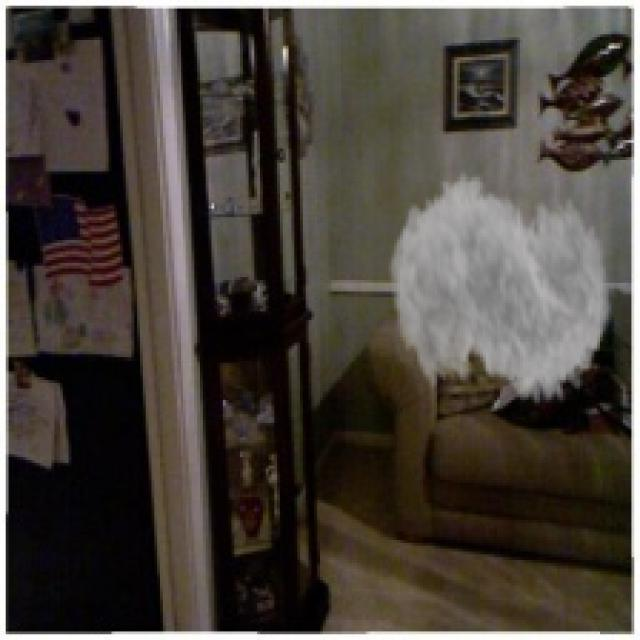Smoke: (388, 152, 612, 434)
